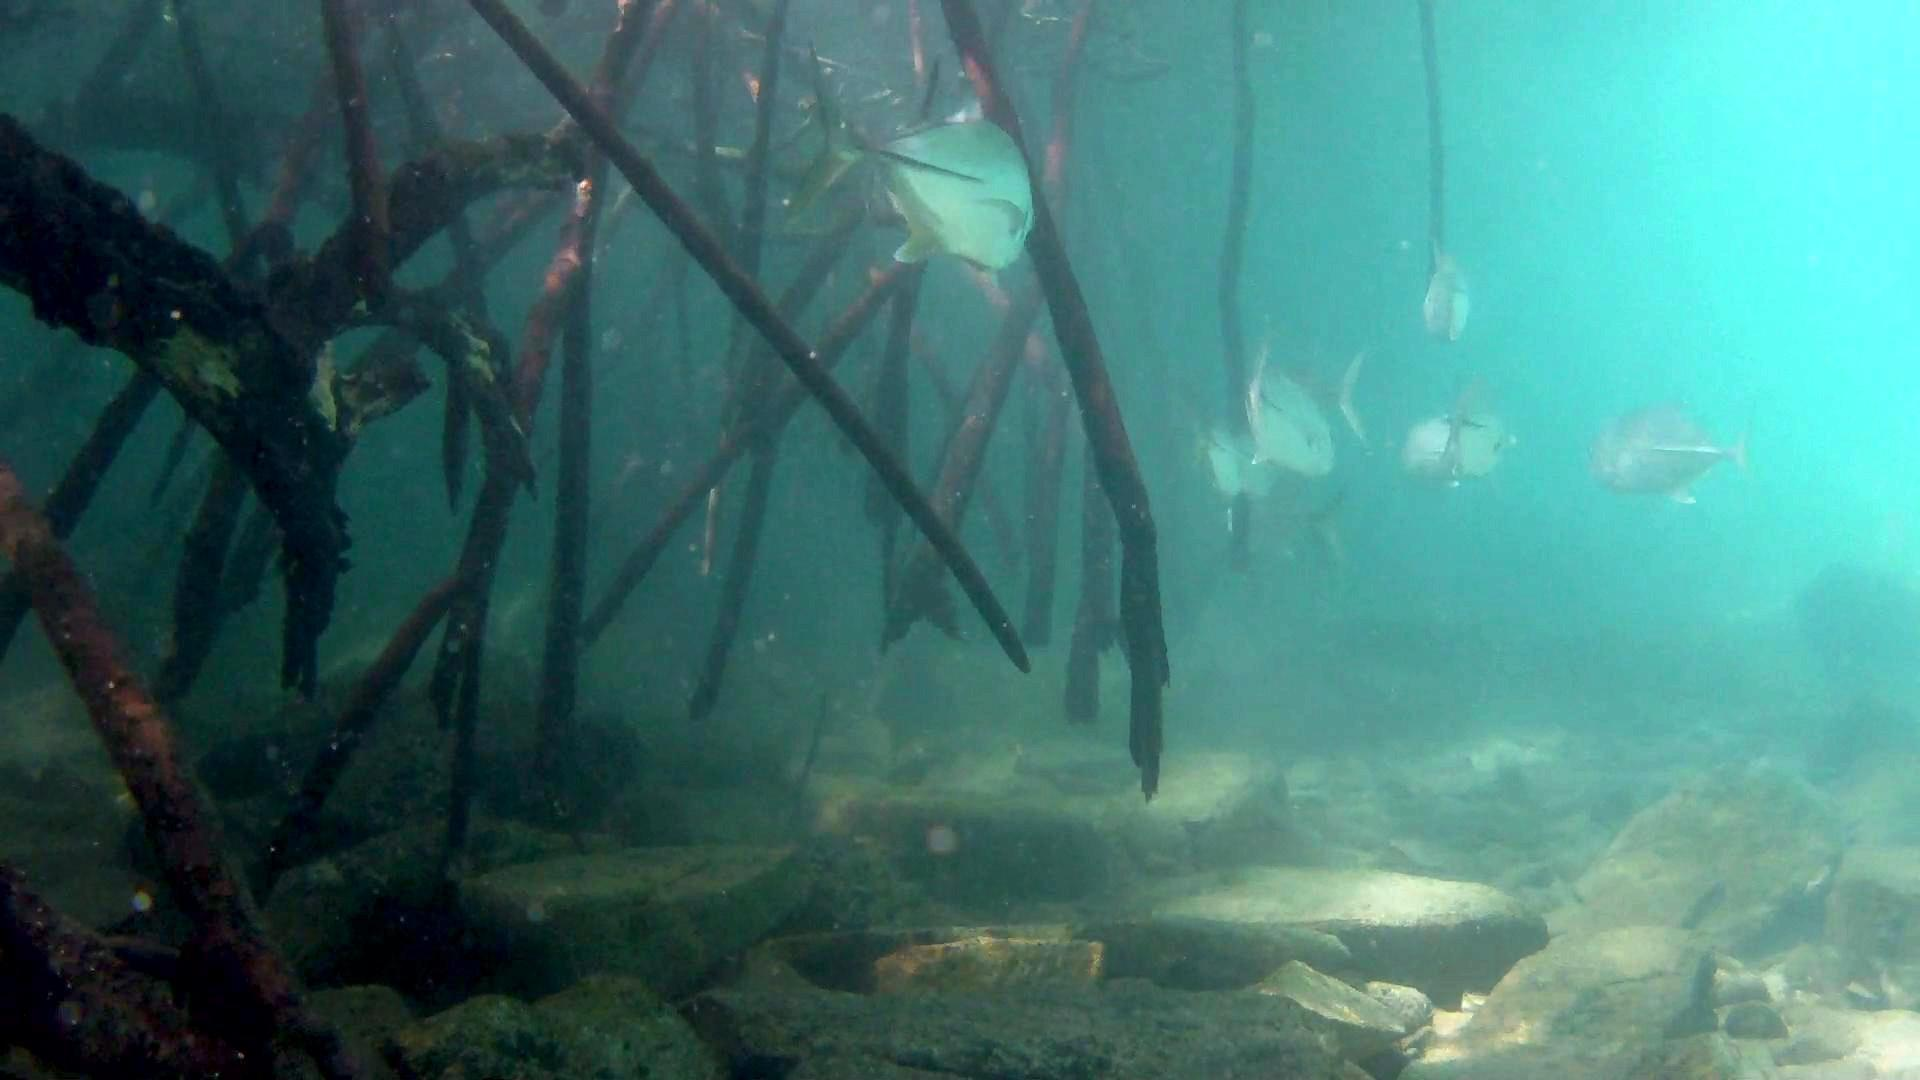caranx: (769, 30, 1054, 297)
